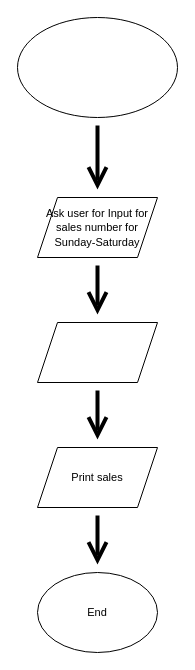
This 195x670 diagram has some shape labels left out. The shapes that lost their labels are listed below. From the top down, each one's centre as x and y in pixels, then its label:
(x=97, y=67): Start
(x=97, y=352): Program uses list from inputs to calculate total for sales
